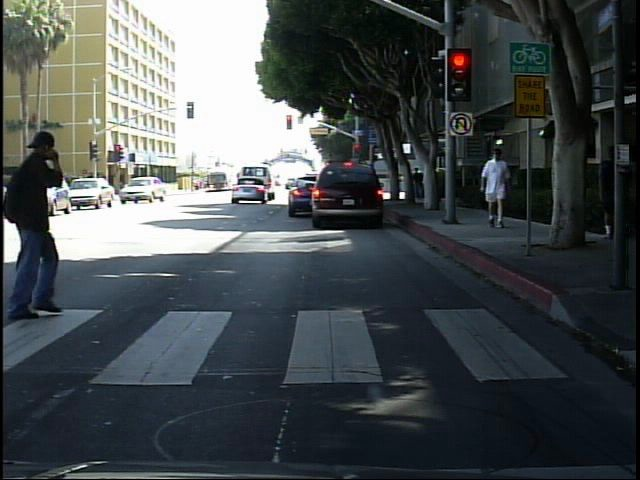person: (7, 122, 83, 336), (598, 137, 631, 246), (474, 145, 513, 230)
